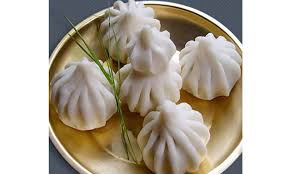modak: (124, 98, 217, 174), (53, 51, 120, 136), (173, 28, 246, 101), (97, 3, 165, 61), (121, 24, 185, 73)
